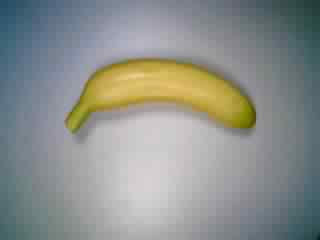banana: (61, 54, 258, 144)
